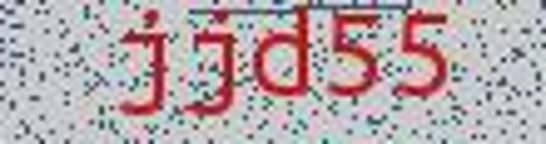5: (394, 8, 460, 113), (323, 2, 385, 104)
d: (248, 3, 317, 103)
j: (112, 1, 171, 122), (183, 1, 241, 123)
